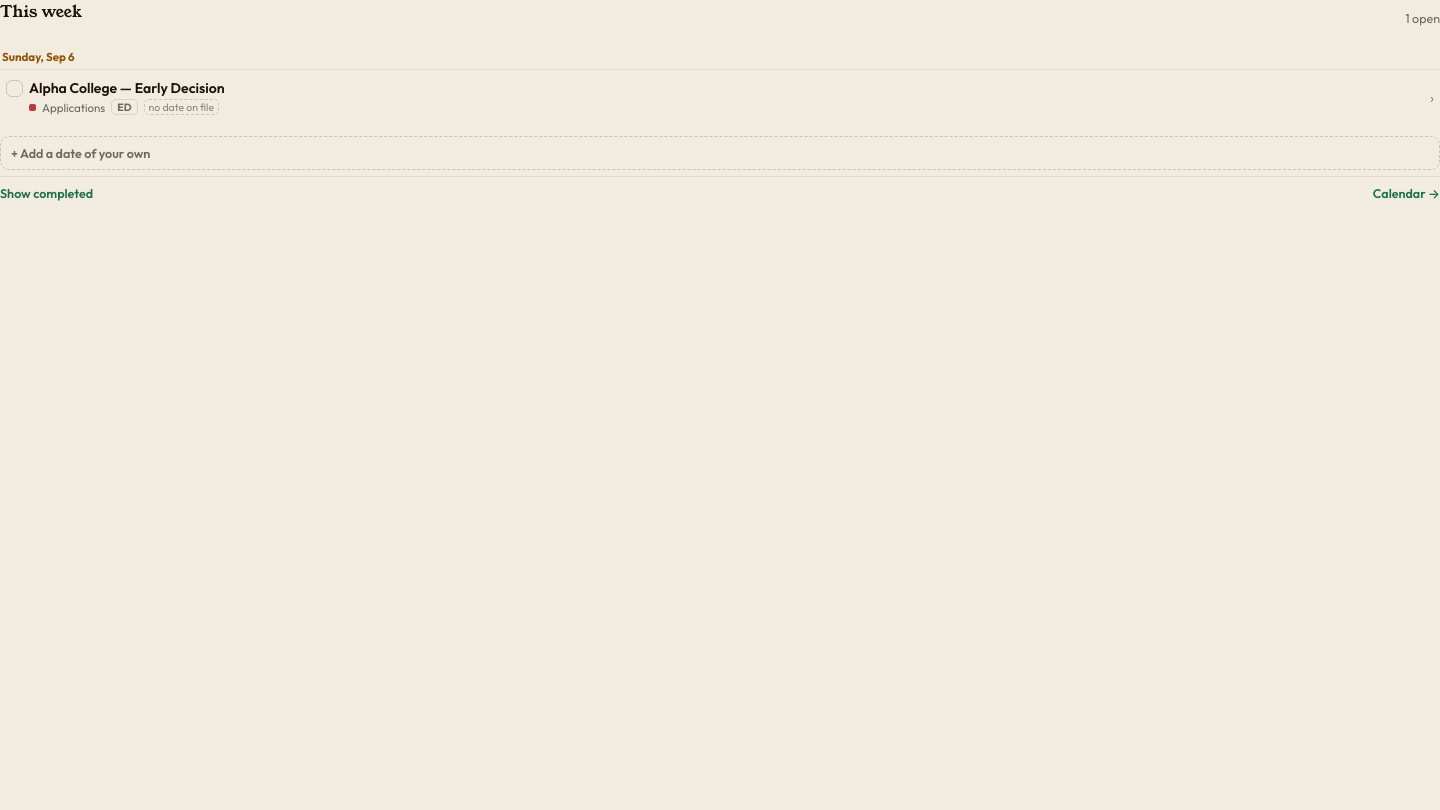
Test case: DeadlinePanel — the opened deadline › shows what a system deadline belongs to
What coordinates should you click on to do the following:
click the button named "Alpha College — Early Decision — College, due Nov 1, 2028. B"
I would click on:
 (127, 88)
Its box is [27,70,1439,124].
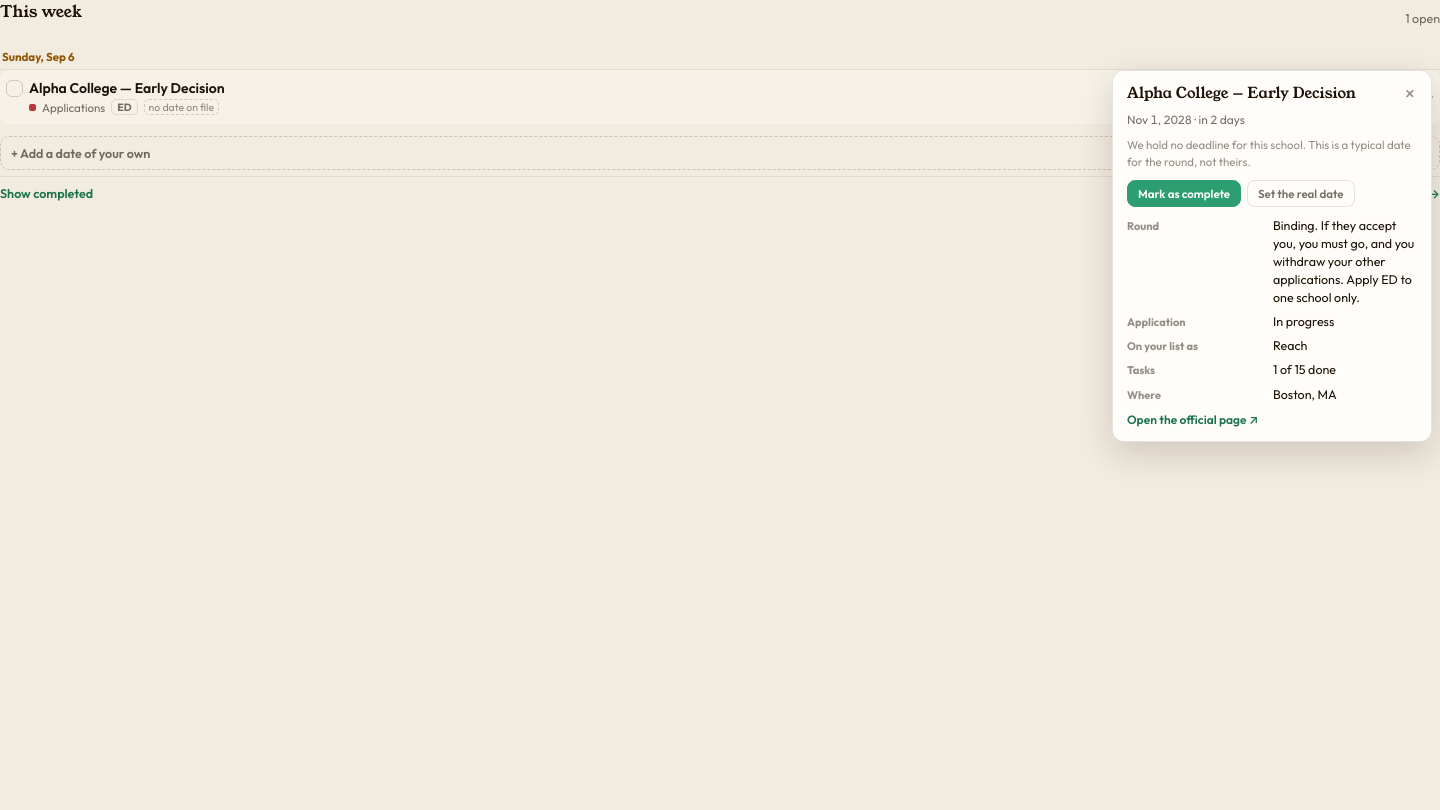
Now the text "In progress" is shown, box [1273,313,1334,329]
Now the text "Reach" is shown, box [1273,337,1308,353]
Now the text "Boston, MA" is shown, box [1273,386,1337,402]
